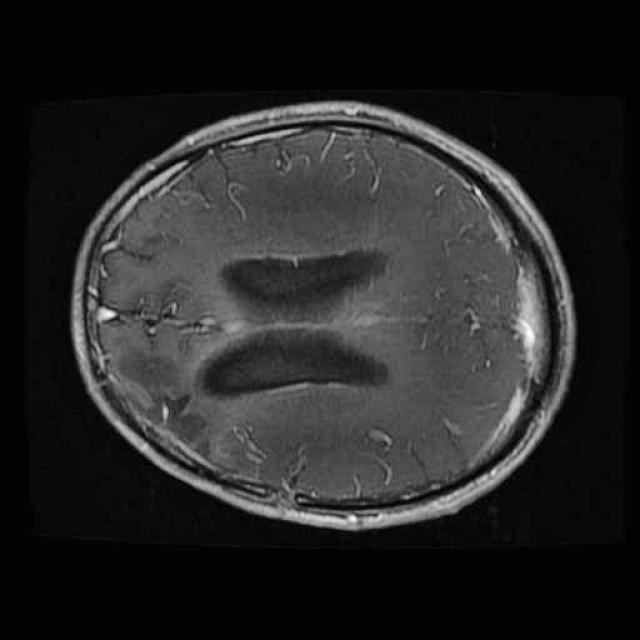Non-Tumor: (96, 321, 231, 488)
